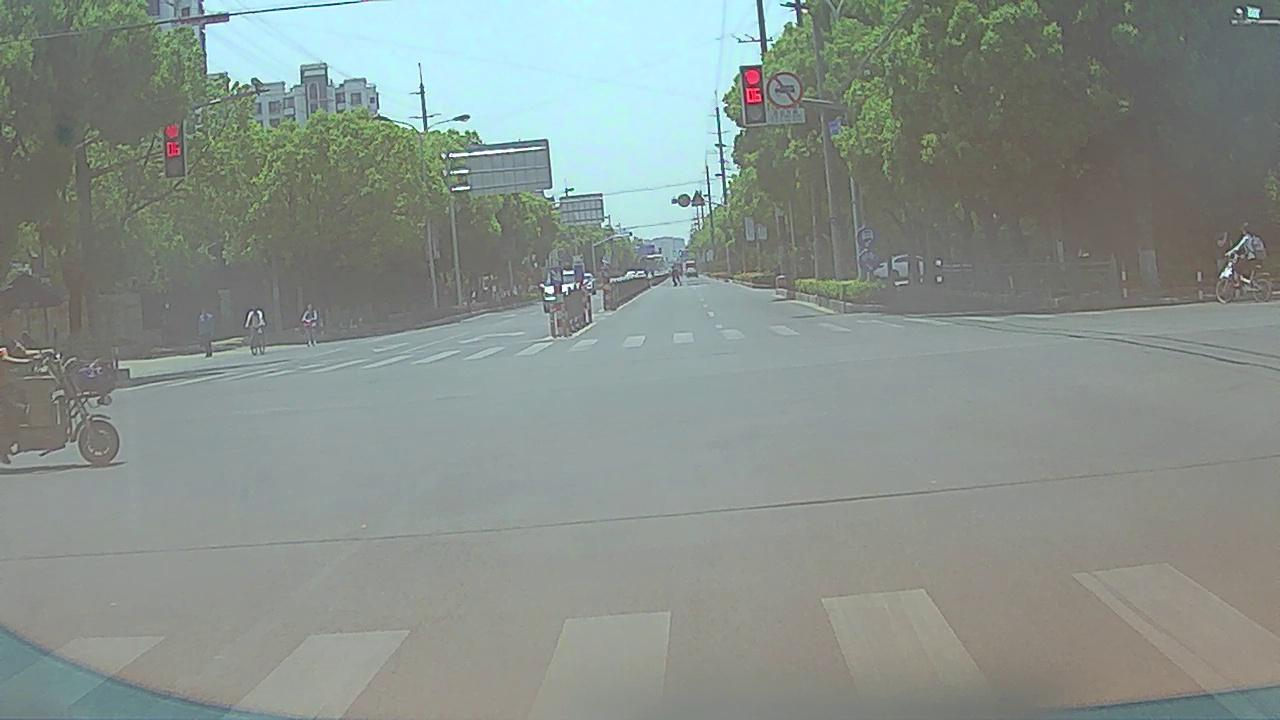traffic_light: (742, 66, 767, 125), (163, 116, 186, 178)
